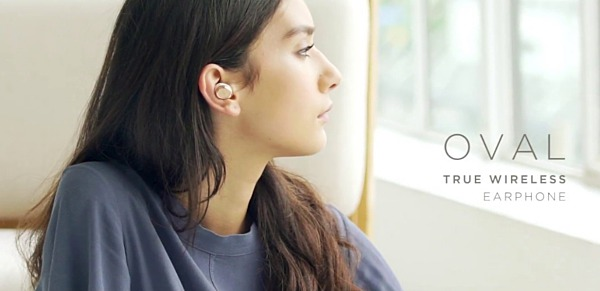earphone: (198, 64, 240, 118)
